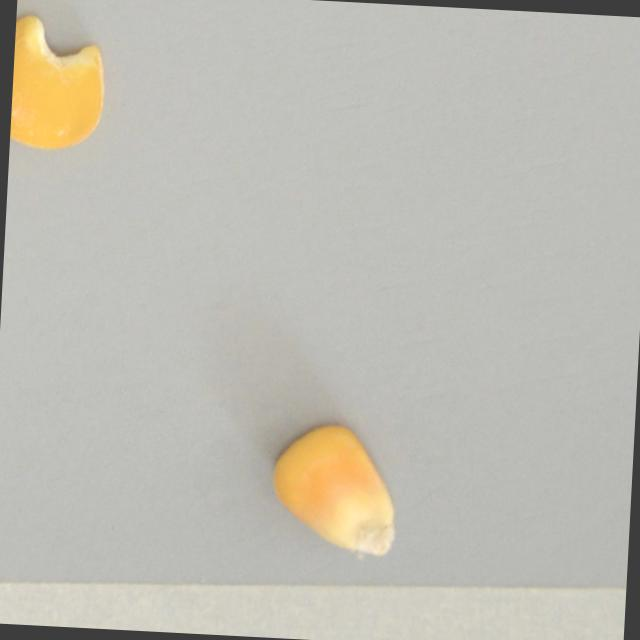entero: (259, 418, 405, 564)
no_canjicado: (8, 12, 110, 155)
